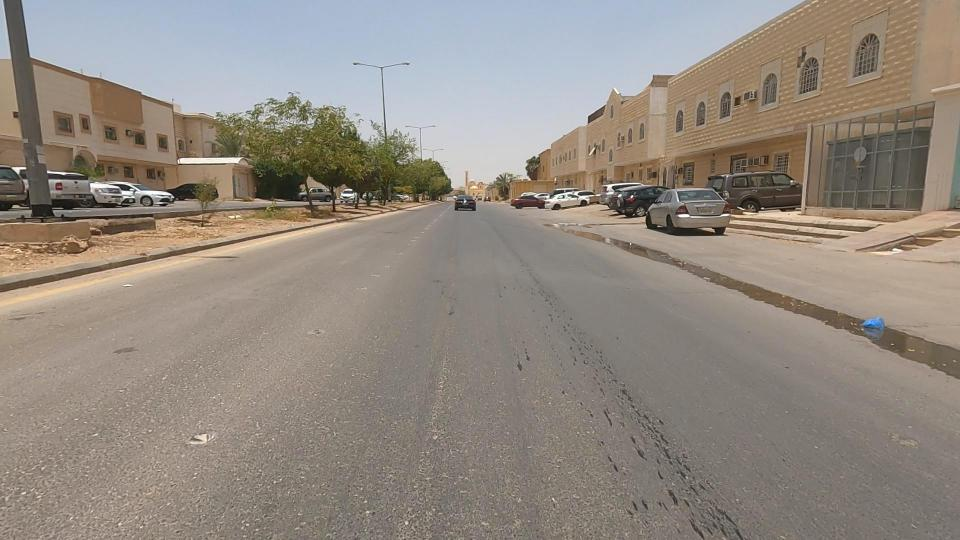GARBAGE: (810, 277, 929, 362), (214, 203, 263, 234)
